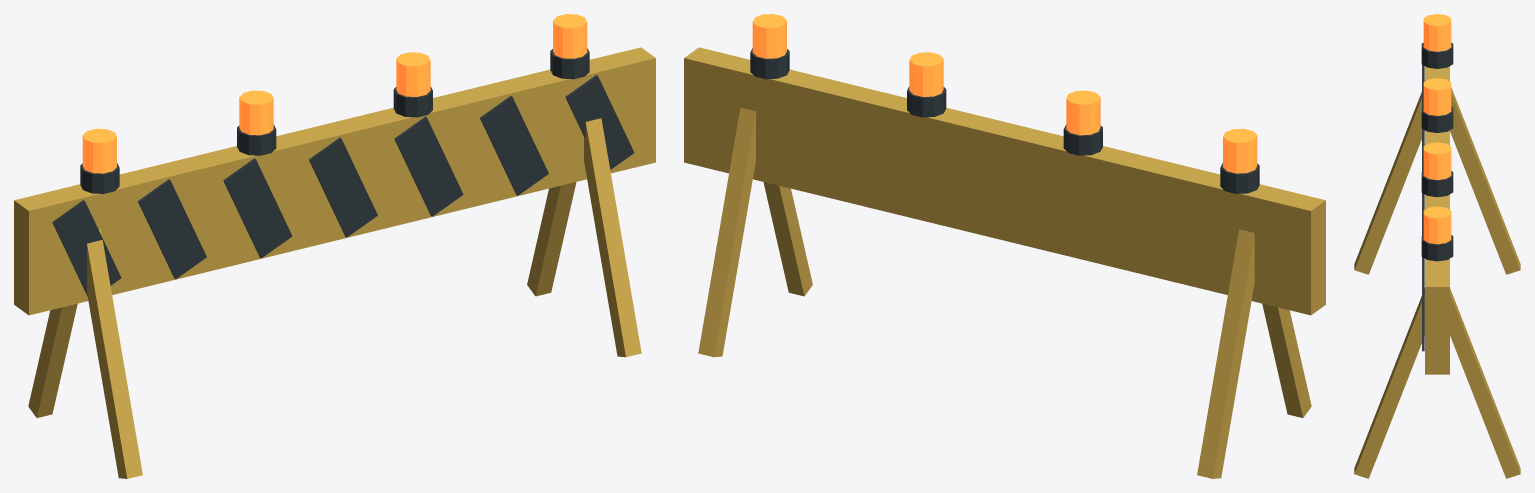
Rendered from DeadRail_Approach_Roadblock.fbx.
3 renders of one model, left to right at view 1: azimuth 30°, elevation 25°; view 2: azimuth 150°, elevation 25°; view 3: azimuth 270°, elevation 25°, orthographic. The views are drawn at different scales.
Visible parts, largest first — view 1: Barrier_Hazard_Board, Barrier_A_Frame.002, Barrier_A_Frame, Barrier_Black_Stripe.003, Barrier_Black_Stripe.004, Barrier_Black_Stripe.001, Barrier_Black_Stripe.002, Barrier_Black_Stripe.005, Barrier_A_Frame.003, Barrier_A_Frame.001, Barrier_Black_Stripe.006, Barrier_Black_Stripe (+8 smaller); view 2: Barrier_Hazard_Board, Barrier_A_Frame.001, Barrier_A_Frame.003, Barrier_A_Frame.002, Barrier_A_Frame, Warning_Red_Beacon.002, Warning_Red_Beacon, Warning_Red_Beacon.001, Warning_Red_Beacon.003, Warning_Beacon_Base.002, Warning_Beacon_Base.003, Warning_Beacon_Base.001 (+1 smaller); view 3: Barrier_Hazard_Board, Barrier_A_Frame.003, Barrier_A_Frame.001, Barrier_A_Frame.002, Barrier_A_Frame, Warning_Red_Beacon, Warning_Red_Beacon.001, Warning_Red_Beacon.003, Warning_Red_Beacon.002, Warning_Beacon_Base.003, Warning_Beacon_Base, Warning_Beacon_Base.002 (+2 smaller).
Boxes of the visible parts, x1=… form: Barrier_Hazard_Board: x1=14, y1=47, x2=655, y2=315; Barrier_A_Frame.002: x1=584, y1=118, x2=641, y2=357; Barrier_A_Frame: x1=87, y1=229, x2=142, y2=478; Barrier_Black_Stripe.003: x1=308, y1=137, x2=377, y2=237; Barrier_Black_Stripe.004: x1=394, y1=116, x2=463, y2=216; Barrier_Black_Stripe.001: x1=138, y1=179, x2=206, y2=279; Barrier_Black_Stripe.002: x1=223, y1=158, x2=292, y2=258; Barrier_Black_Stripe.005: x1=480, y1=96, x2=548, y2=195; Barrier_A_Frame.003: x1=527, y1=182, x2=576, y2=296; Barrier_A_Frame.001: x1=28, y1=303, x2=77, y2=417; Barrier_Black_Stripe.006: x1=565, y1=75, x2=634, y2=169; Barrier_Black_Stripe: x1=52, y1=200, x2=121, y2=296; Barrier_Hazard_Board: x1=684, y1=47, x2=1325, y2=315; Barrier_A_Frame.001: x1=1197, y1=229, x2=1254, y2=478; Barrier_A_Frame.003: x1=698, y1=107, x2=755, y2=357; Barrier_A_Frame.002: x1=763, y1=182, x2=812, y2=296; Barrier_A_Frame: x1=1262, y1=303, x2=1311, y2=417; Warning_Red_Beacon.002: x1=909, y1=52, x2=943, y2=96; Warning_Red_Beacon: x1=1223, y1=128, x2=1257, y2=173; Warning_Red_Beacon.001: x1=1066, y1=90, x2=1100, y2=135; Warning_Red_Beacon.003: x1=752, y1=14, x2=786, y2=58; Warning_Beacon_Base.002: x1=907, y1=86, x2=946, y2=117; Warning_Beacon_Base.003: x1=750, y1=48, x2=789, y2=79; Warning_Beacon_Base.001: x1=1063, y1=124, x2=1102, y2=155; Barrier_Hazard_Board: x1=1425, y1=66, x2=1449, y2=374; Barrier_A_Frame.003: x1=1450, y1=288, x2=1520, y2=478; Barrier_A_Frame.001: x1=1450, y1=88, x2=1520, y2=274; Barrier_A_Frame.002: x1=1354, y1=288, x2=1424, y2=478; Barrier_A_Frame: x1=1354, y1=92, x2=1424, y2=274; Warning_Red_Beacon: x1=1423, y1=14, x2=1451, y2=51; Warning_Red_Beacon.001: x1=1423, y1=78, x2=1451, y2=115; Warning_Red_Beacon.003: x1=1423, y1=206, x2=1451, y2=244; Warning_Red_Beacon.002: x1=1423, y1=142, x2=1451, y2=179; Warning_Beacon_Base.003: x1=1421, y1=235, x2=1453, y2=261; Warning_Beacon_Base: x1=1421, y1=42, x2=1453, y2=68; Warning_Beacon_Base.002: x1=1421, y1=171, x2=1453, y2=197.
Size of the model in its own units: 4.4 by 2.06 by 1.2.
